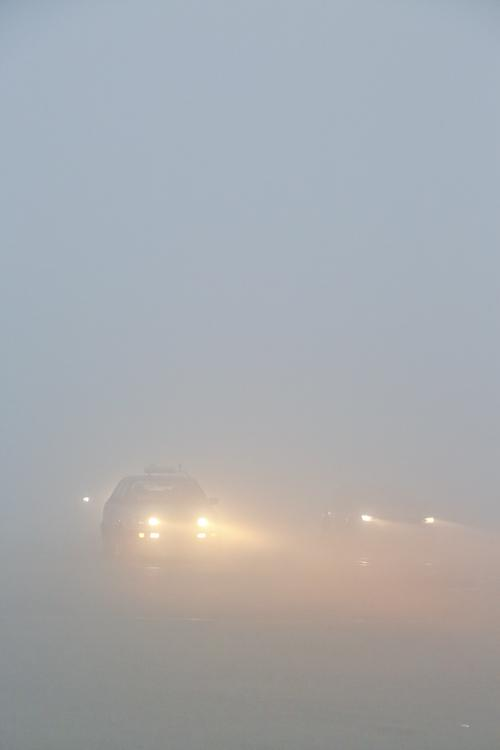car: (100, 465, 220, 563)
